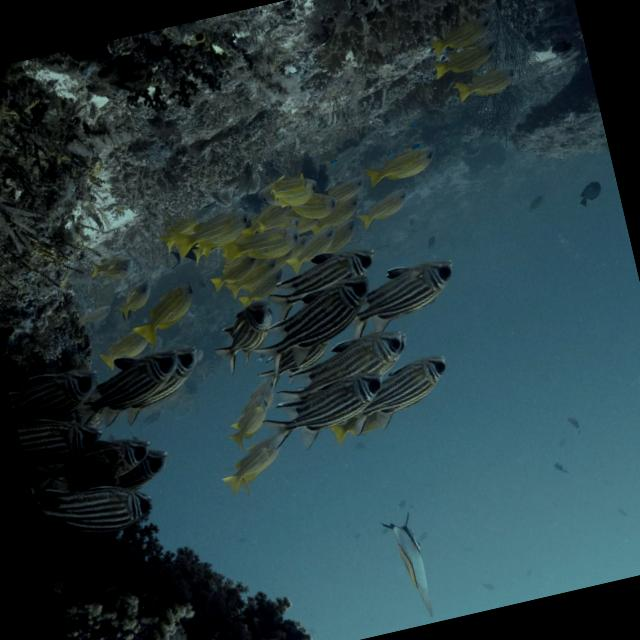Asker Baligi: (248, 267, 393, 384), (251, 360, 396, 463), (342, 244, 478, 342), (65, 336, 195, 438), (31, 463, 166, 558)
